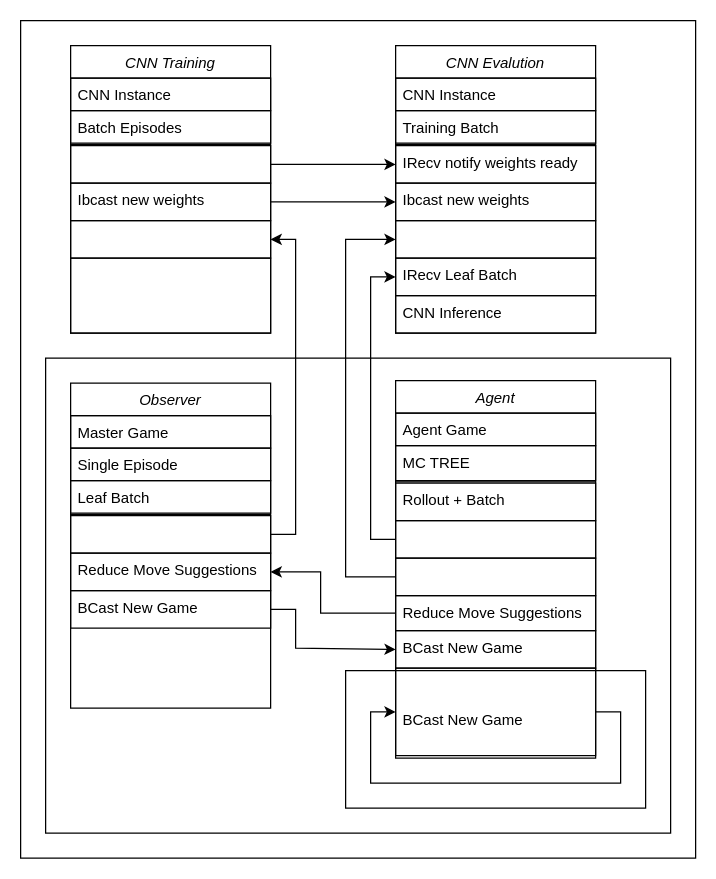
The diagram is 716 pixels wide and 879 high, and some of its shapes have lost their labels. Each missing label, with the centre of its shape:
"IRecv Episode" goes at pixel 170 238.
"IRecv Value Batch" goes at pixel 495 576.
"ISend Episode" goes at pixel 170 533.
"ISend Leaf Batch" goes at pixel 495 538.
"Isend notify weights ready" goes at pixel 170 163.
"ISend Value Batch" goes at pixel 495 238.
"Training" goes at pixel 170 295.
